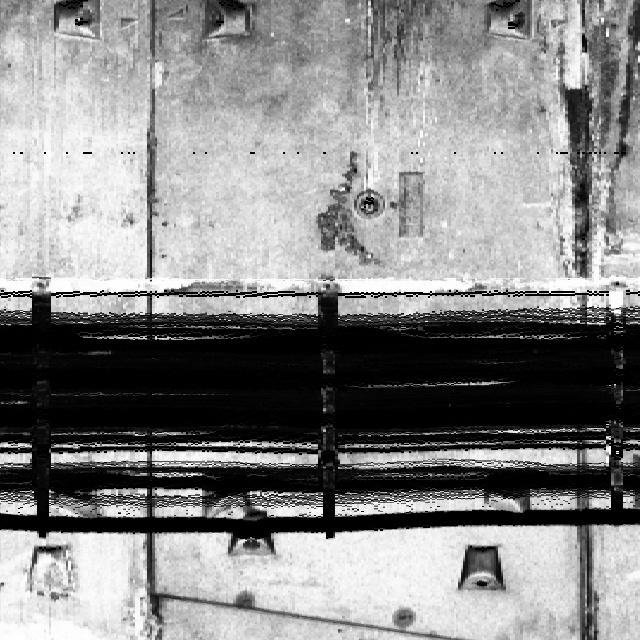leakage: (540, 0, 639, 279)
